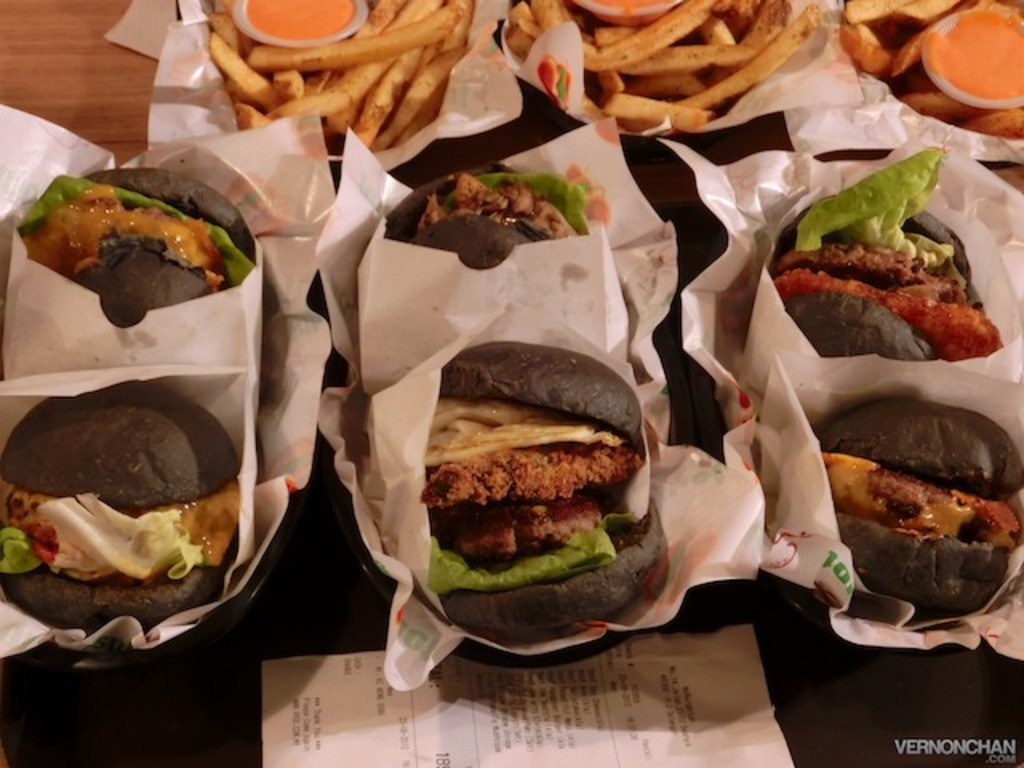French fries: (678, 3, 825, 108), (248, 0, 459, 62), (572, 0, 710, 73), (347, 36, 425, 153), (376, 48, 459, 150), (270, 59, 390, 121), (596, 94, 718, 134), (209, 28, 273, 104), (632, 32, 747, 72), (576, 25, 619, 100), (625, 70, 702, 102), (742, 1, 785, 52), (508, 22, 534, 63), (358, 0, 393, 30), (268, 68, 294, 107), (217, 8, 236, 59), (598, 19, 630, 48), (536, 0, 564, 30), (236, 108, 267, 135), (515, 0, 534, 27)
